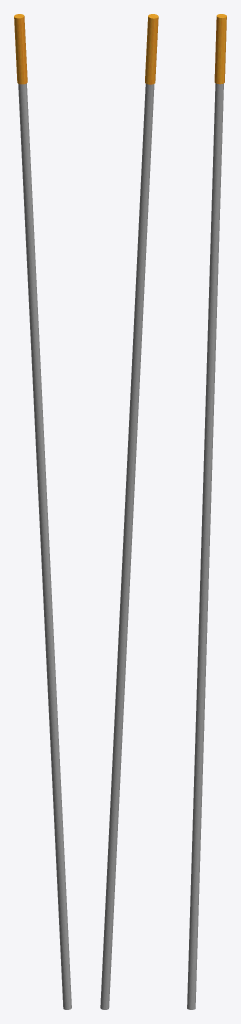
The model's file is orange.glb.
The picture shows the model from 3 angles, left to right: view 1: azimuth 30°, elevation 25°; view 2: azimuth 210°, elevation 25°; view 3: azimuth 270°, elevation 25°; orthographic projection.
Visible parts, largest first — view 1: Electrode_2_Tip; view 2: Electrode_2_Tip; view 3: Electrode_2_Tip.
Boxes of the visible parts, left/top/right/bottom form: Electrode_2_Tip: left=14, top=14, right=71, bottom=1009; Electrode_2_Tip: left=100, top=14, right=158, bottom=1009; Electrode_2_Tip: left=187, top=14, right=226, bottom=1009.
Bounding box in the file's own units: 0.1634 × 3.75 × 0.1387.
Materials: 2 (2 with a texture image).
